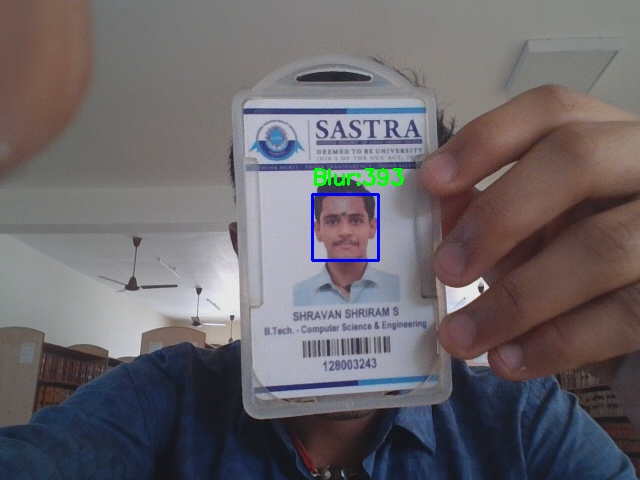fake: (312, 194, 378, 260)
